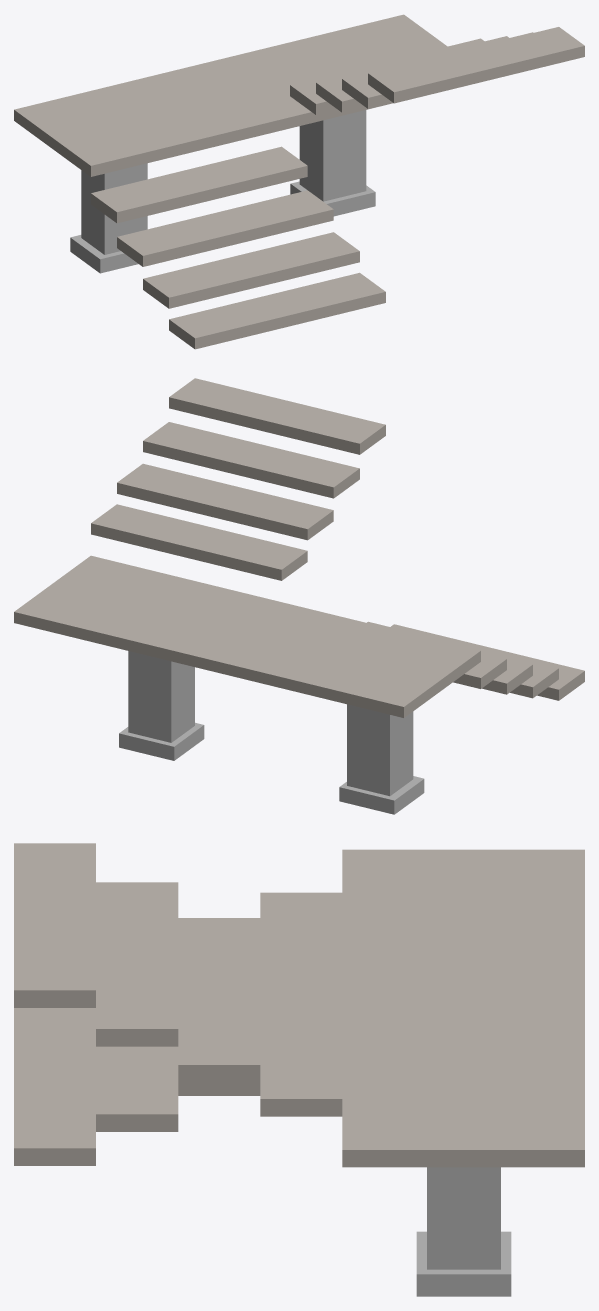
The model's file is Stairs_Floor.fbx.
The picture shows the model from 3 angles, top to bottom: view 1: azimuth 30°, elevation 25°; view 2: azimuth 150°, elevation 25°; view 3: azimuth 270°, elevation 25°; orthographic projection. The views are drawn at different scales.
Parts seen in each view (by area): view 1: FloorStairs; view 2: FloorStairs; view 3: FloorStairs.
Boxes of the visible parts, x1=… form: FloorStairs: x1=14, y1=14, x2=584, y2=349; FloorStairs: x1=14, y1=378, x2=584, y2=814; FloorStairs: x1=14, y1=843, x2=584, y2=1296.
Size of what is drawn, in the model's own units: 7.72 by 4.43 by 6.21.
